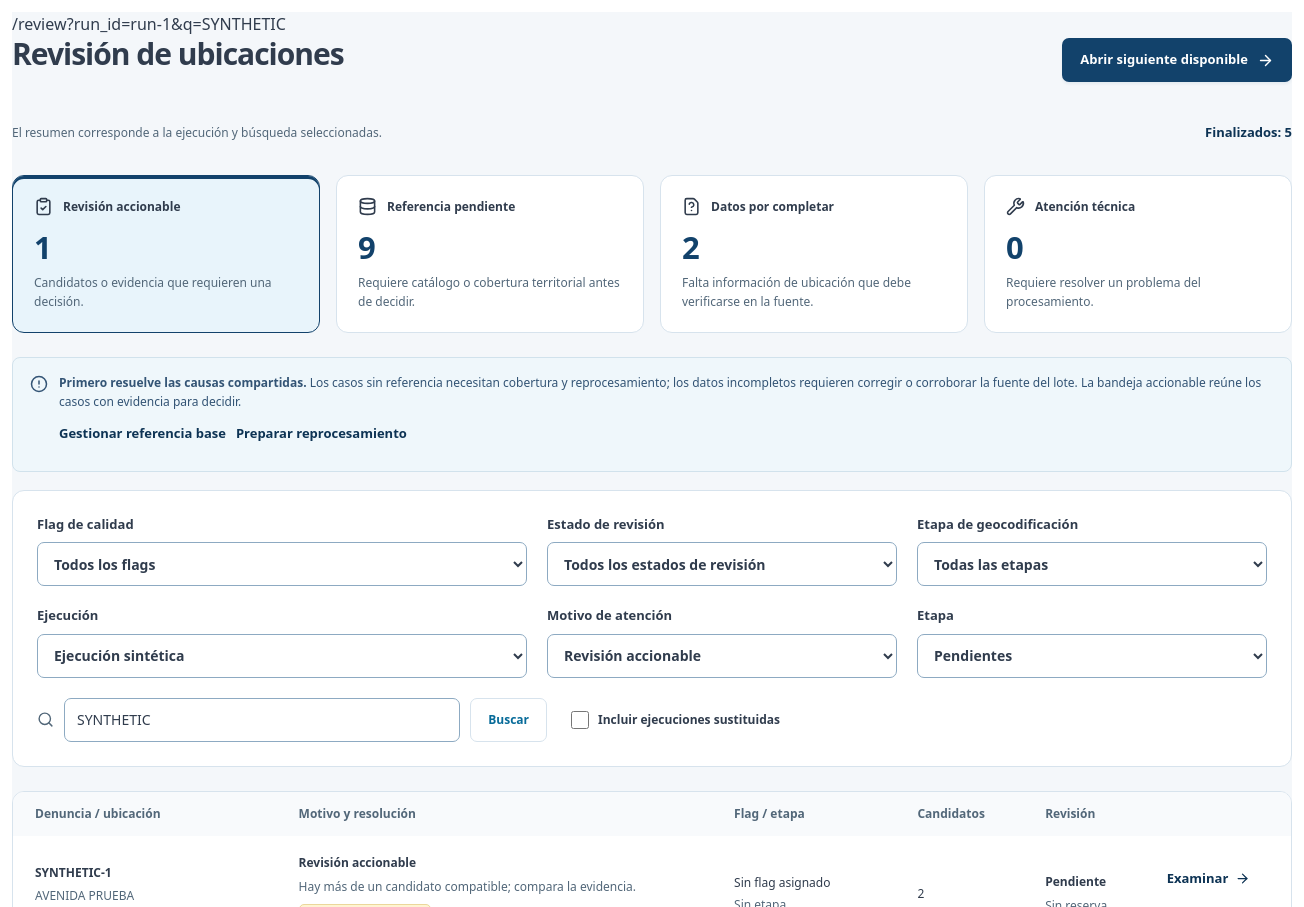
Scenario: review queue scope › defaults to actionable work while showing reference blockers and preserves filters in detail links
Expected: the button "Revisión accionable" shows "1", [12,175,320,333]
Expected: the button "Referencia pendiente" shows "9", [336,175,644,333]
Click the button "Finalizados: 5" at (1249, 133), box [1205,111,1292,155]
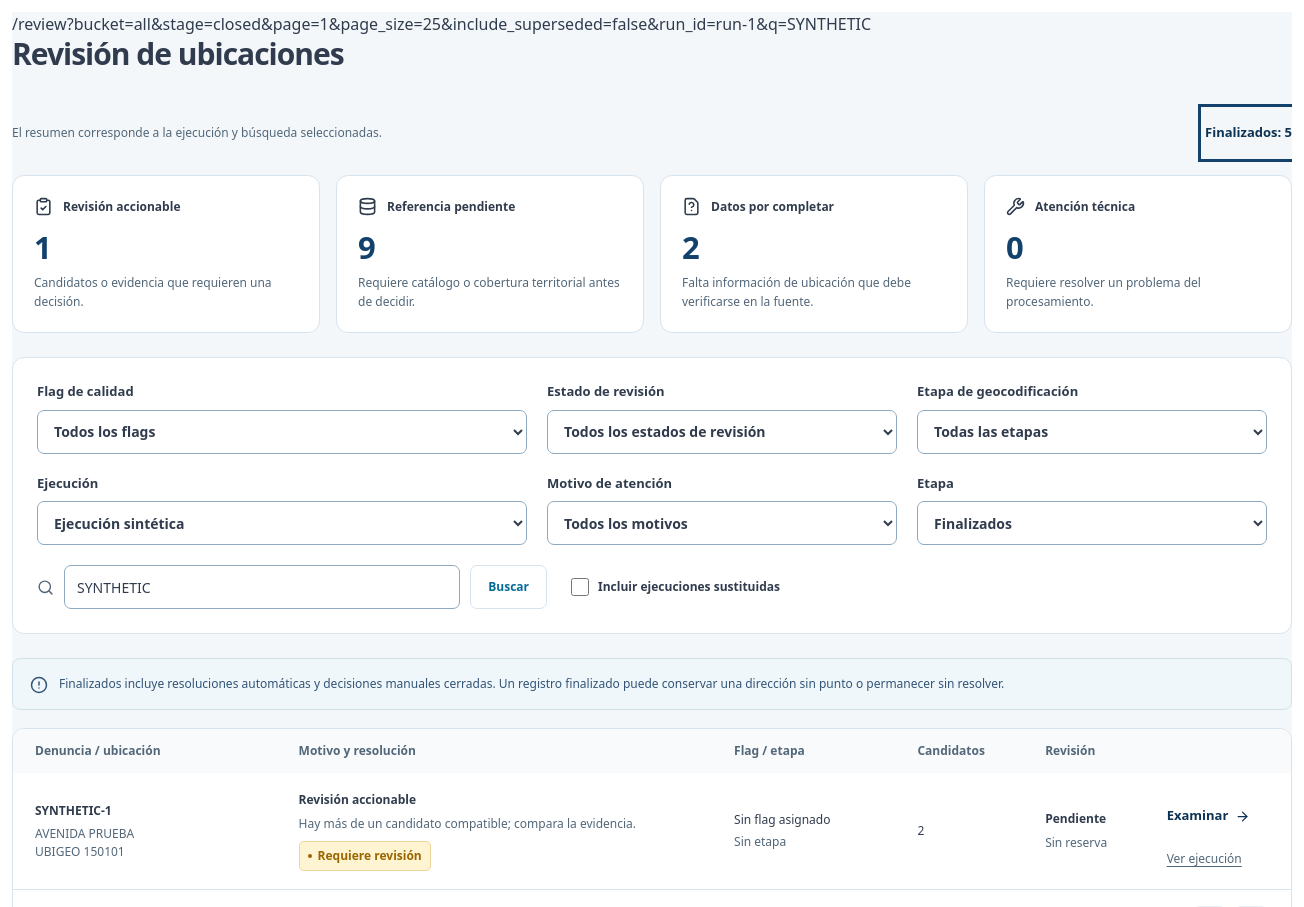
Expected: the dropdown labelled "Etapa" shows "Finalizados", [917,501,1267,545]
Expected: the dropdown labelled "Motivo de atención" shows "Todos los motivos", [547,501,897,545]
Expected: the text "Finalizados incluye resoluciones automáticas" is shown, [59,675,1004,692]
